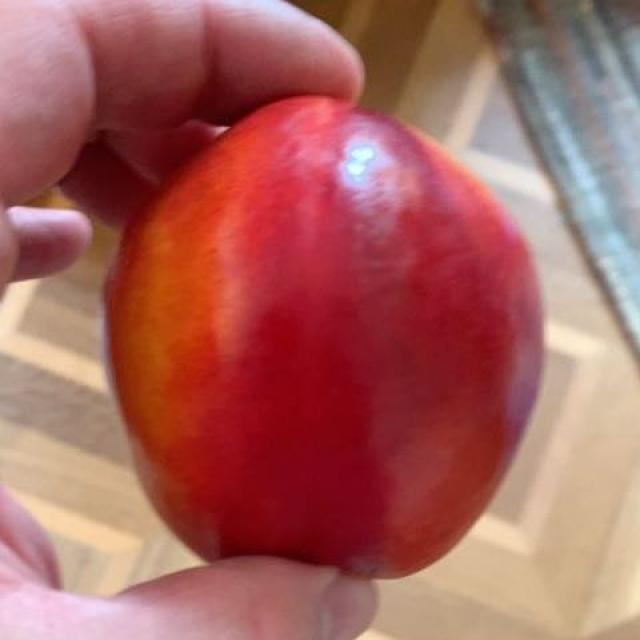peach: (109, 97, 534, 566)
